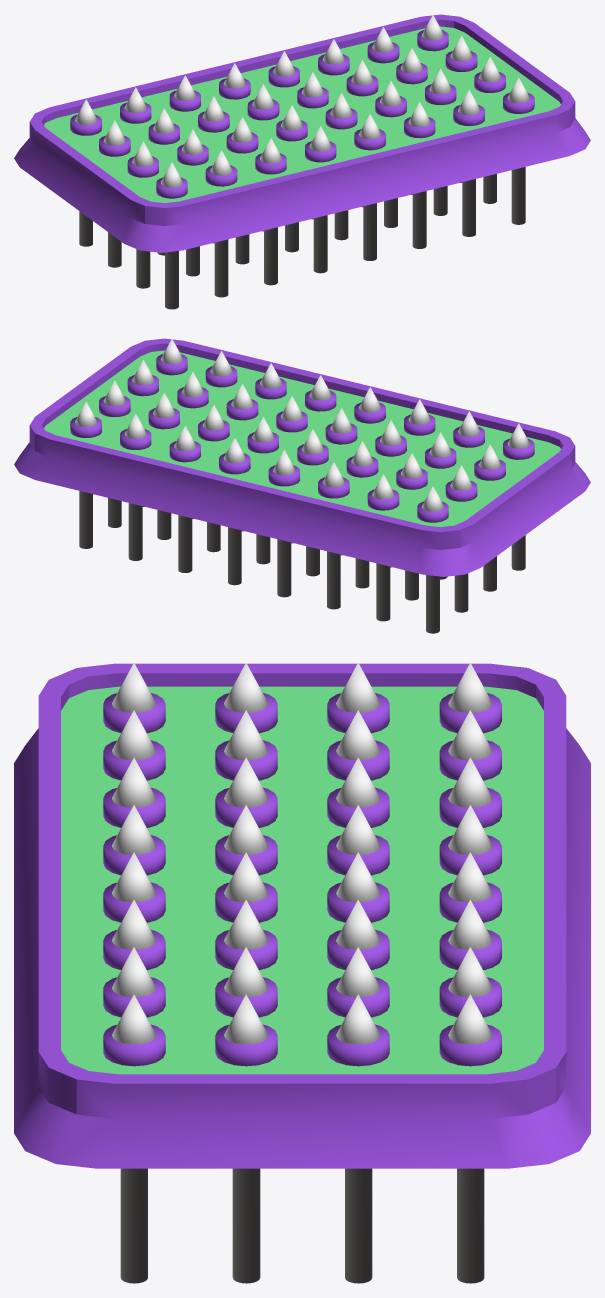
File: Obstacle 7 V4.fbx
The picture shows the model from 3 angles, top to bottom: view 1: azimuth 30°, elevation 25°; view 2: azimuth 150°, elevation 25°; view 3: azimuth 270°, elevation 25°; orthographic projection. The views are drawn at different scales.
Parts seen in each view (by area): view 1: O7 Part 1, O7 Part 2; view 2: O7 Part 1, O7 Part 2; view 3: O7 Part 1, O7 Part 2.
Part boxes in pixels (box(x1,y1,x2,y2)): O7 Part 1: box(14, 14, 590, 252); O7 Part 2: box(70, 15, 534, 309); O7 Part 1: box(14, 338, 590, 576); O7 Part 2: box(70, 339, 534, 633); O7 Part 1: box(14, 663, 590, 1168); O7 Part 2: box(103, 662, 501, 1283).
Bounding box in the file's own units: 249 × 74.77 × 138.
1 material, 1 textured.
